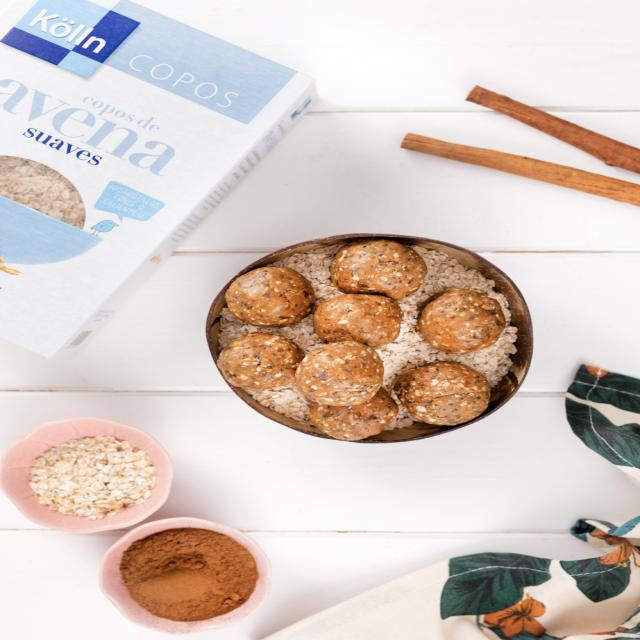avena: (10, 430, 166, 524)
